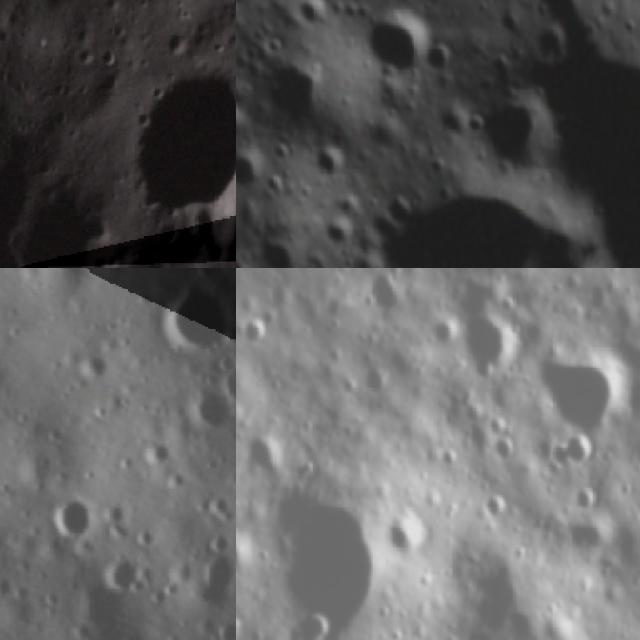crater: (103, 47, 236, 260), (271, 498, 388, 640), (152, 272, 236, 361), (356, 0, 447, 81), (538, 354, 621, 435), (264, 54, 349, 130), (45, 488, 114, 554), (182, 534, 236, 611), (90, 540, 155, 600), (178, 381, 236, 444), (384, 504, 435, 563), (461, 315, 505, 375), (367, 268, 410, 321), (70, 340, 119, 386), (417, 33, 462, 78), (320, 208, 362, 251), (255, 232, 303, 268), (309, 139, 349, 180), (245, 433, 282, 477), (236, 147, 268, 193), (214, 357, 236, 417), (243, 314, 277, 351), (362, 361, 392, 402), (463, 108, 496, 140), (236, 94, 255, 143), (424, 151, 454, 180), (568, 485, 598, 511), (484, 413, 510, 440), (431, 318, 455, 346), (488, 442, 518, 464), (481, 494, 505, 519), (500, 293, 522, 320), (436, 444, 458, 469), (236, 0, 254, 10)
